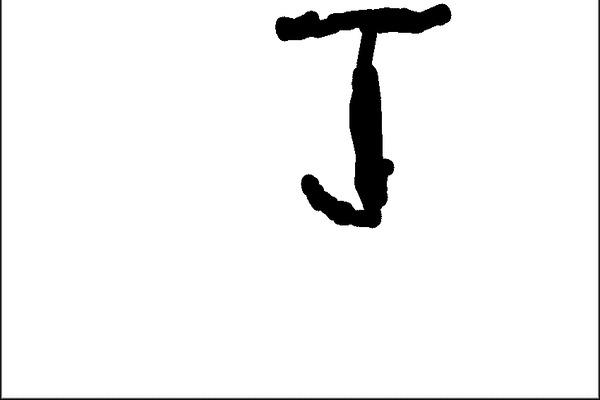J: (272, 0, 455, 231)
